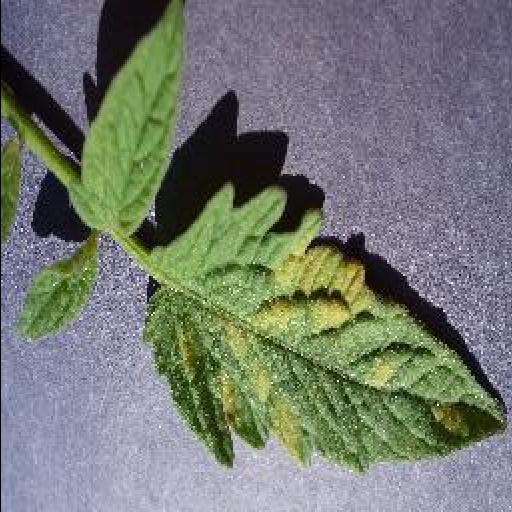disease_tomato: (150, 184, 506, 472)
